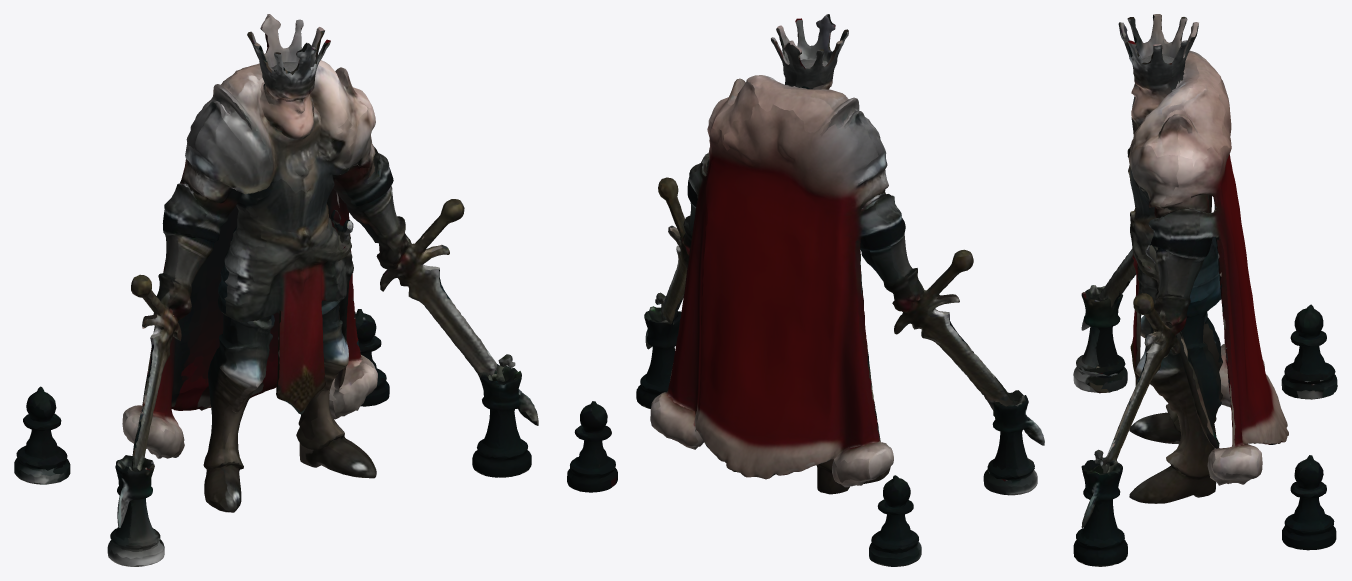
The model's file is king.glb.
3 views of the same model, side by side, from view 1: azimuth 30°, elevation 25°; view 2: azimuth 150°, elevation 25°; view 3: azimuth 270°, elevation 25° (orthographic). The views are drawn at different scales.
Parts seen in each view (by area): view 1: tmpd9kkjdps.ply; view 2: tmpd9kkjdps.ply; view 3: tmpd9kkjdps.ply.
Boxes of the visible parts, x1,y1,x2,y2 form: tmpd9kkjdps.ply: [14, 14, 538, 566]; tmpd9kkjdps.ply: [567, 14, 1044, 566]; tmpd9kkjdps.ply: [1073, 14, 1337, 566].
Bounding box in the file's own units: 0.9432 × 0.9873 × 0.5297.
1 material, 1 textured.
